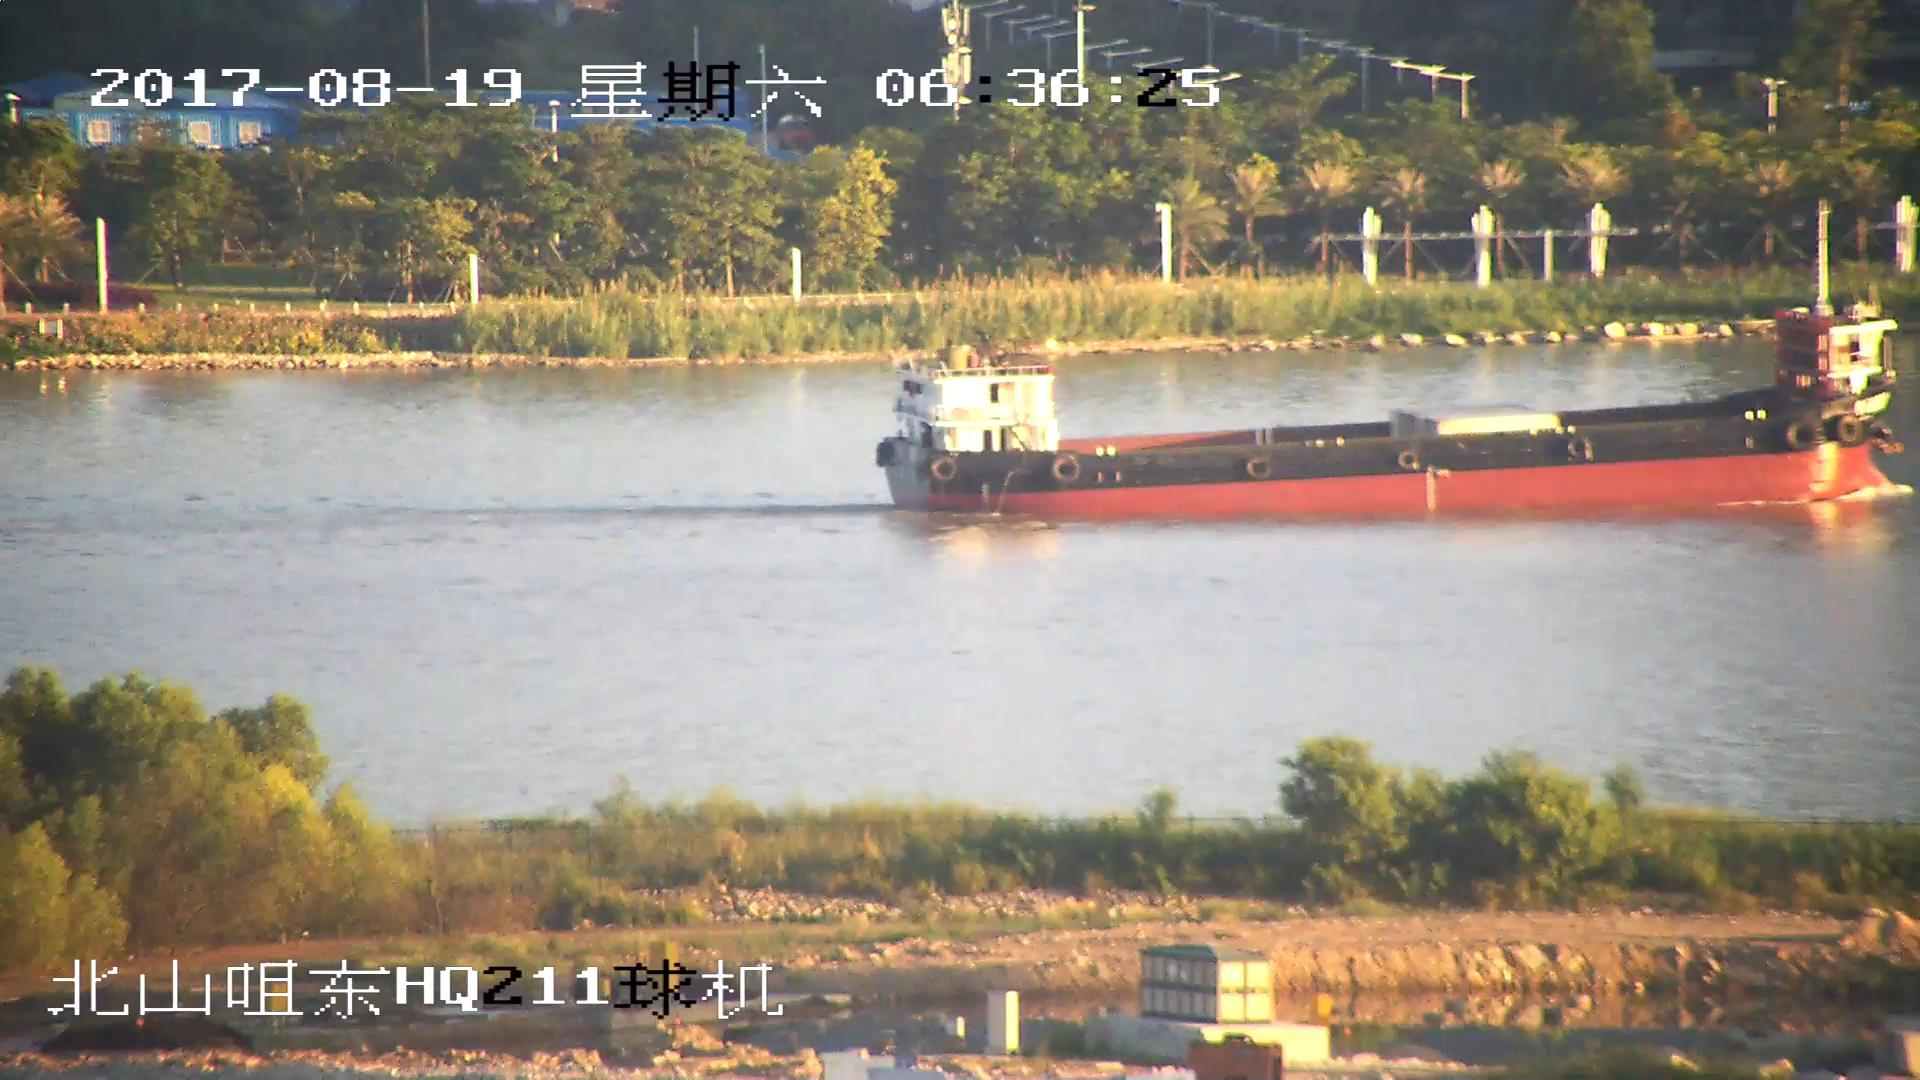Ship: (884, 299, 1892, 521)
